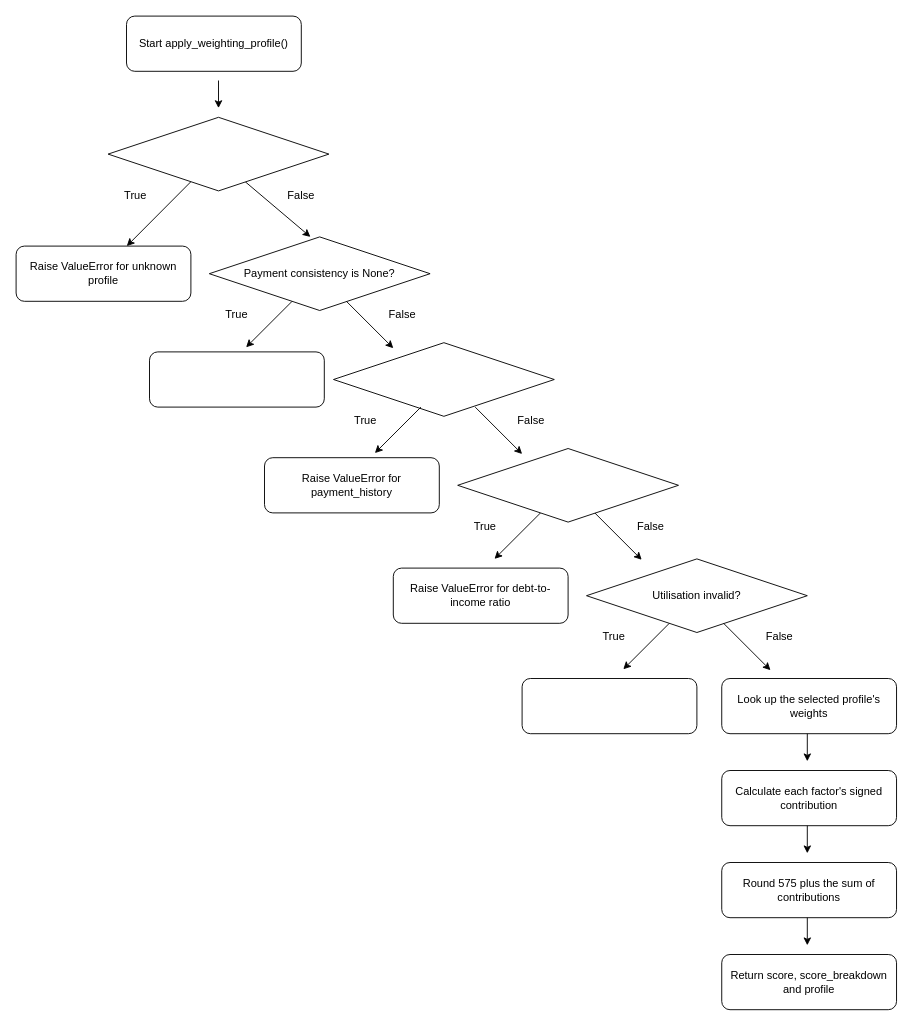
Image size: 913x1026. Some labels were removed from this diagram. Here are the shapes that lost their labels. From the top down, the centre of each, then its label:
At (x=218, y=153): "profile_name not in weights_by_profile?".
At (x=236, y=379): "Raise ValueError for insufficient payment history".
At (x=443, y=379): "Payment consistency invalid?".
At (x=567, y=485): "Debt-to-income ratio invalid?".
At (x=609, y=706): "Raise ValueError for utilisation".
